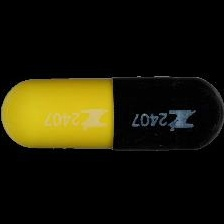21695-640: (0, 0, 224, 224)
